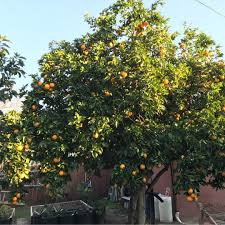orange: (118, 70, 128, 80), (42, 84, 49, 90)
